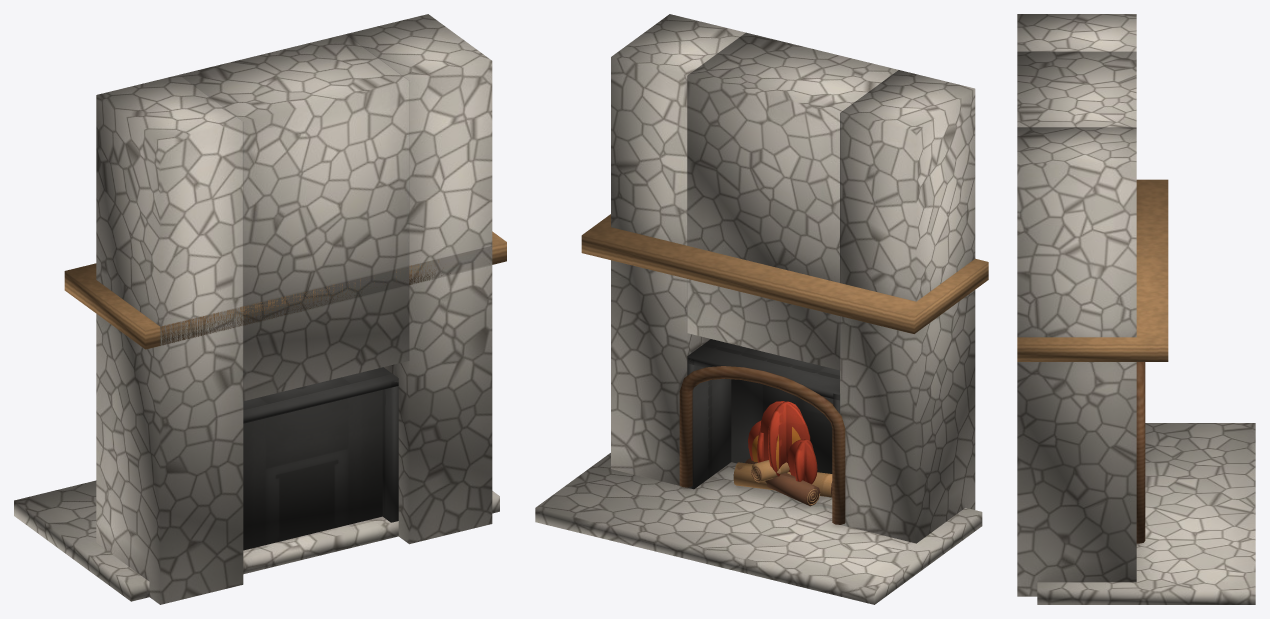
File: fireplace_stone.glb
The picture shows the model from 3 angles, left to right: view 1: azimuth 30°, elevation 25°; view 2: azimuth 150°, elevation 25°; view 3: azimuth 270°, elevation 25°; orthographic projection. The views are drawn at different scales.
Visible parts, largest first — view 1: fireplace_stone_stone, fireplace_stone_felt_charcoal, fireplace_stone_wood; view 2: fireplace_stone_stone, fireplace_stone_wood, fireplace_stone_felt_charcoal, fireplace_stone_wood_dark, fireplace_stone_felt_flame_r, fireplace_stone_felt_tan, fireplace_stone_felt_brown; view 3: fireplace_stone_stone, fireplace_stone_wood, fireplace_stone_wood_dark.
Part boxes in pixels (<box>): fireplace_stone_stone: <box>14,14,499,604</box>; fireplace_stone_felt_charcoal: <box>243,367,398,550</box>; fireplace_stone_wood: <box>64,231,506,349</box>; fireplace_stone_stone: <box>535,14,982,604</box>; fireplace_stone_wood: <box>581,214,988,333</box>; fireplace_stone_felt_charcoal: <box>687,339,839,489</box>; fireplace_stone_wood_dark: <box>679,366,845,524</box>; fireplace_stone_felt_flame_r: <box>748,401,817,484</box>; fireplace_stone_felt_tan: <box>733,460,832,504</box>; fireplace_stone_felt_brown: <box>733,458,832,506</box>; fireplace_stone_stone: <box>1017,14,1255,604</box>; fireplace_stone_wood: <box>1017,179,1168,361</box>; fireplace_stone_wood_dark: <box>1136,362,1145,543</box>.
Size of the model in its own units: 4 by 4.8 by 2.4.
12 materials, 11 textured.
